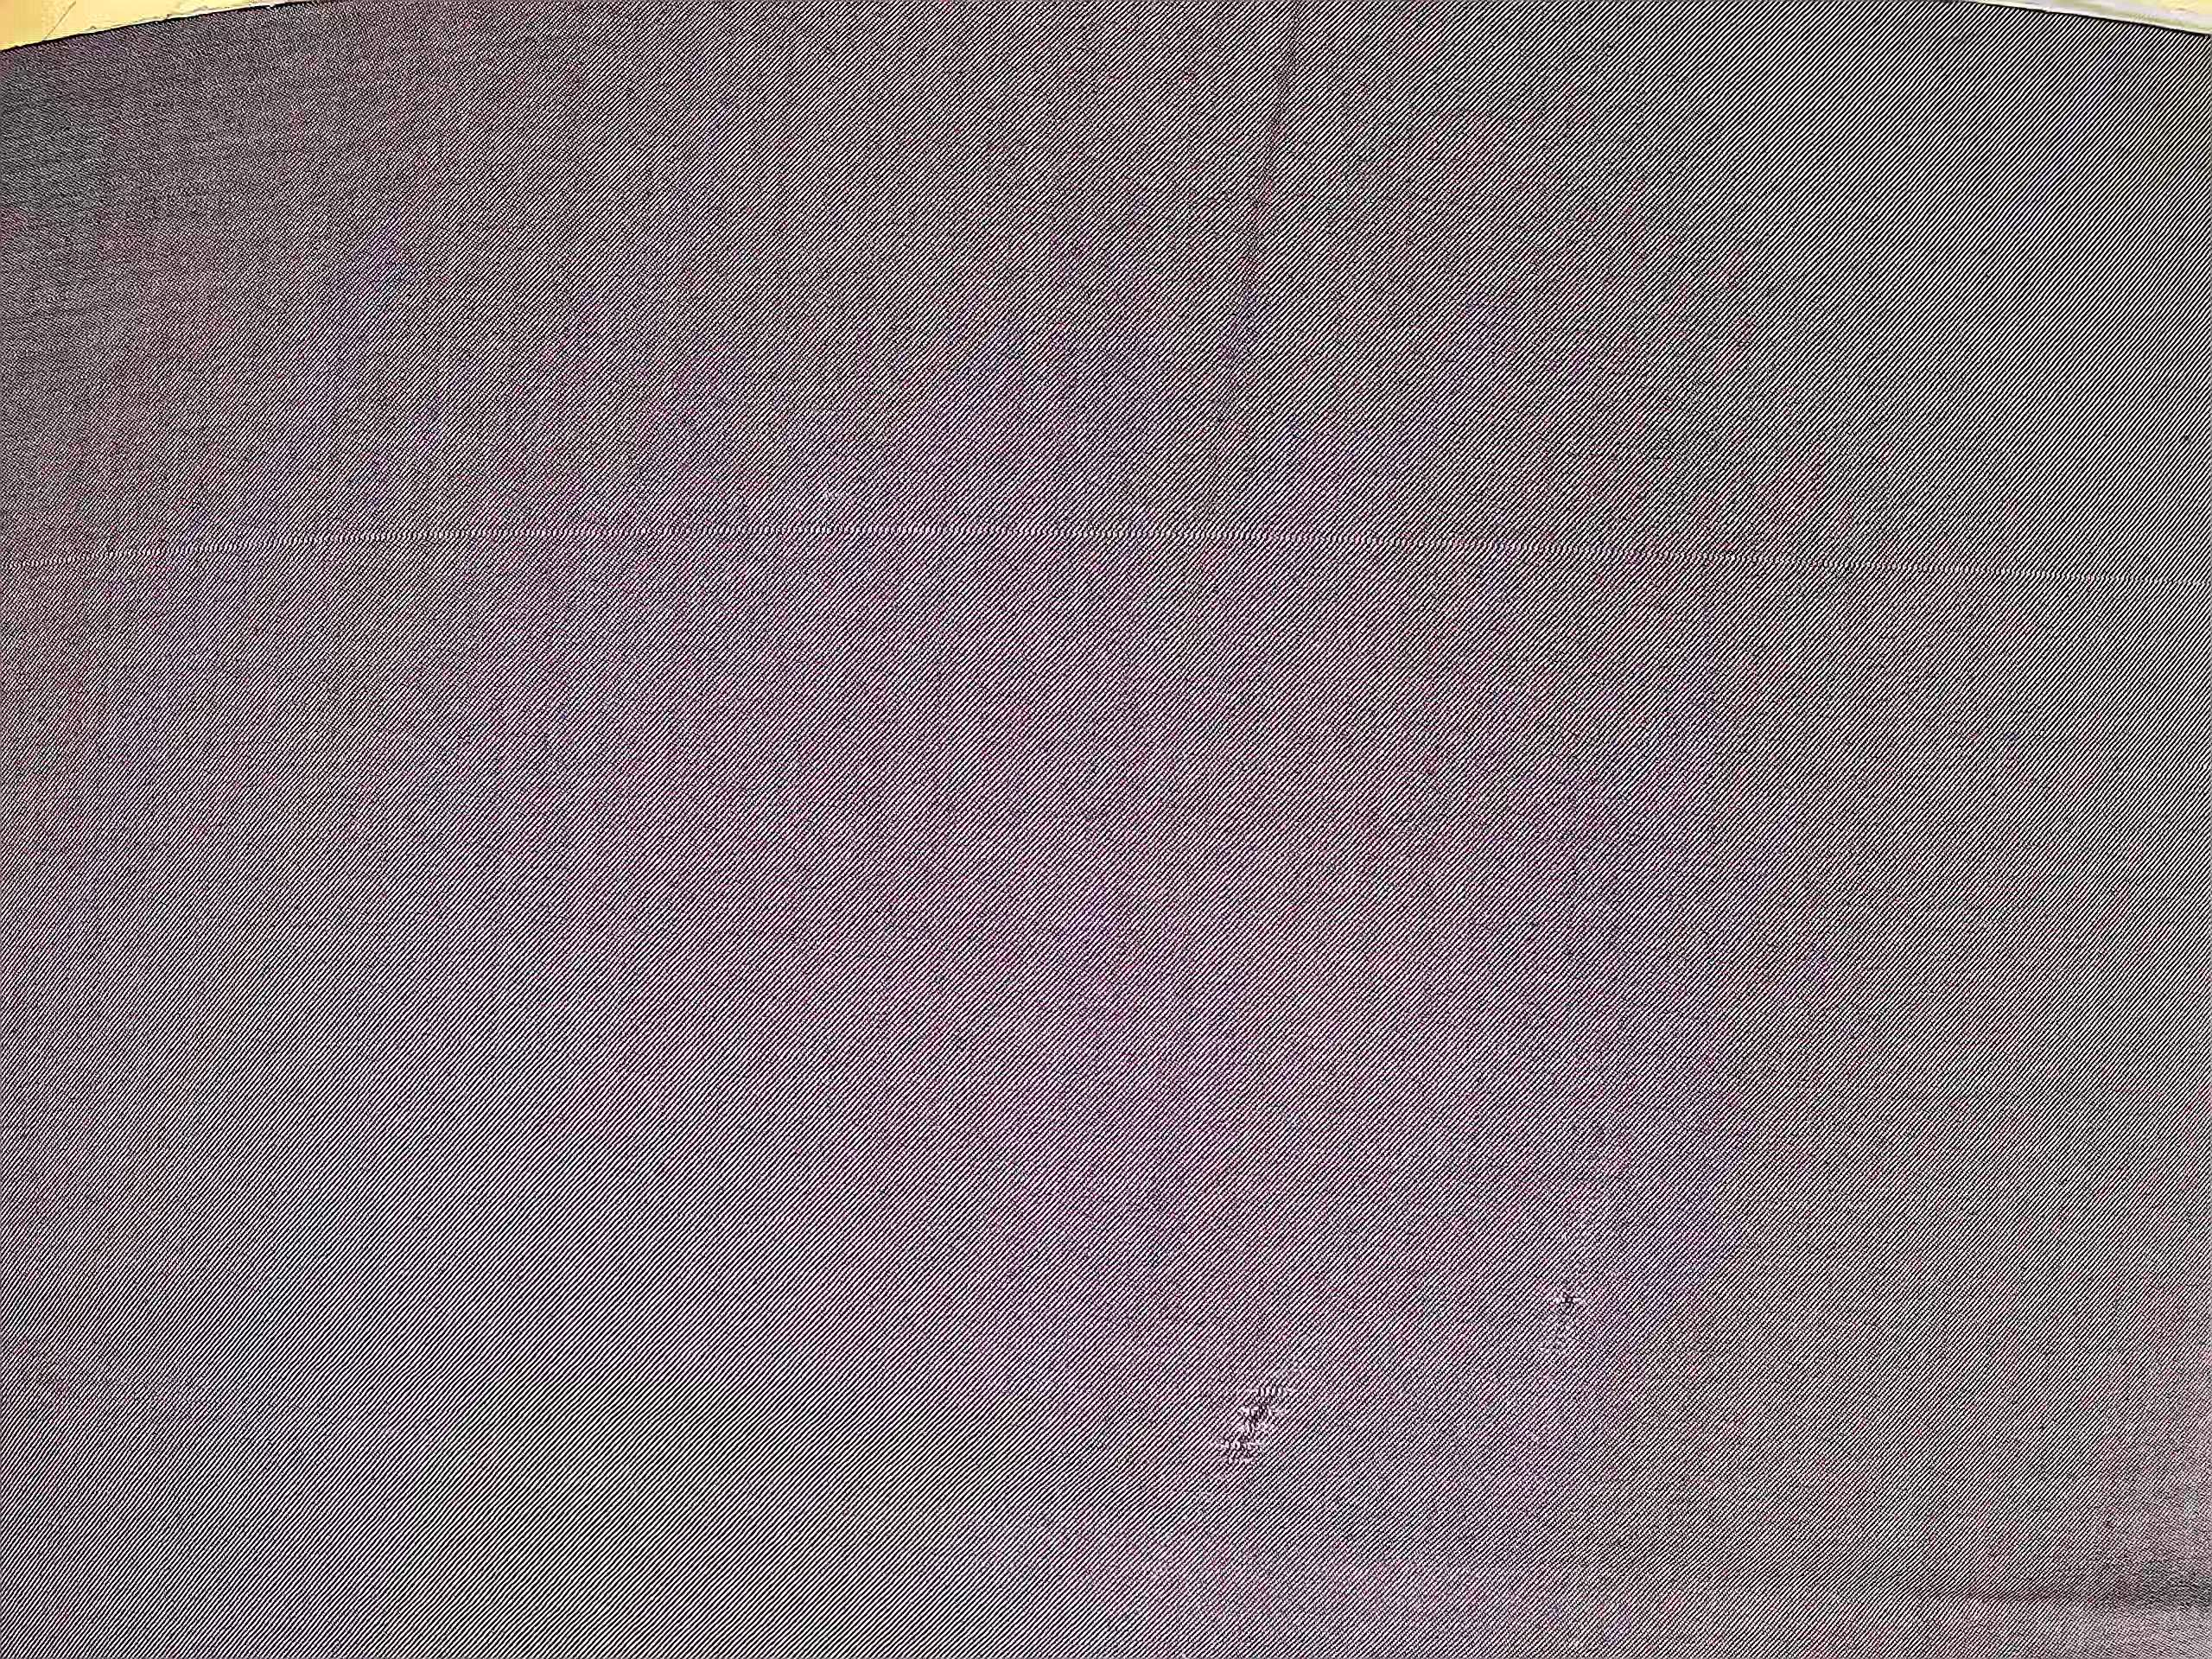knots: (1188, 1359, 1322, 1485), (1531, 1265, 1611, 1351)
others: (23, 519, 2184, 605)
